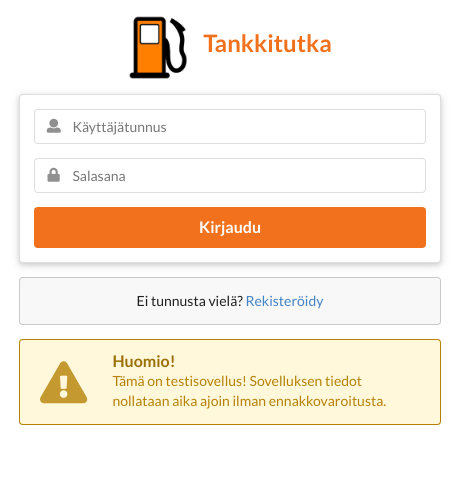
Test: WHEN user opens landing page of the app › WHEN register button is clicked › THEN registration form is shown
Step 1. Click the link "Rekisteröidy" → {"x": 284, "y": 301}, box [243, 292, 324, 309]
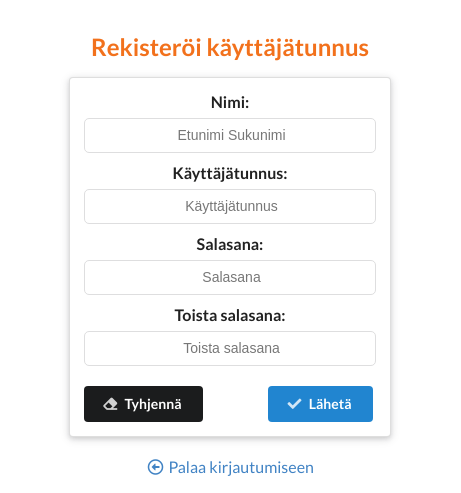
Expected: the heading "Rekisteröi käyttäjätunnus" is shown, [69, 32, 391, 63]
